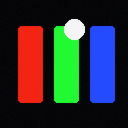2 circle: (64, 19, 84, 39)
